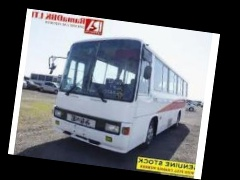bus: (45, 28, 194, 160)
